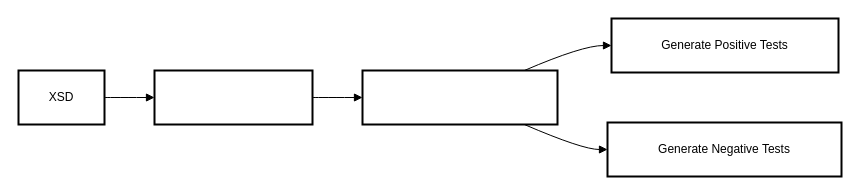
The diagram is 859 pixels wide and 194 high, and some of its shapes have lost their labels. Here are the shapes that lost their labels. From the top down, the centre of each, then its label:
point 233,97: Parse Schema
point 459,97: TestCaseGenerator
